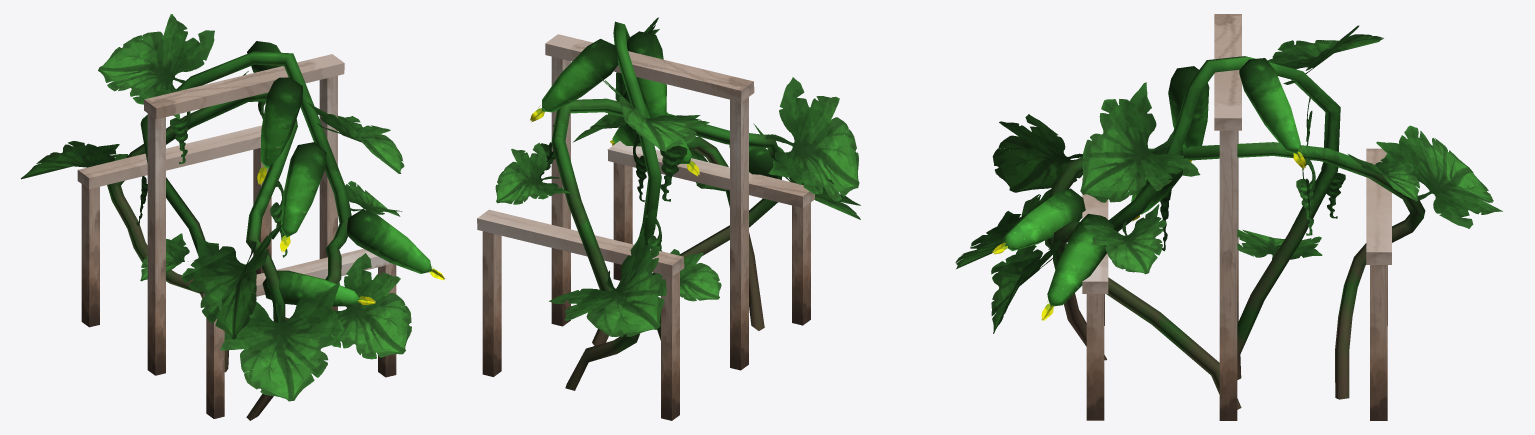
Rendered from cucumber_stage3.FBX.
3 renders of one model, left to right at view 1: azimuth 30°, elevation 25°; view 2: azimuth 150°, elevation 25°; view 3: azimuth 270°, elevation 25°, orthographic. The views are drawn at different scales.
Visible parts, largest first — view 1: cucumber_stage3; view 2: cucumber_stage3; view 3: cucumber_stage3.
Part boxes in pixels (x1,y1,x2,y2): cucumber_stage3: (21, 14, 444, 420); cucumber_stage3: (477, 17, 860, 420); cucumber_stage3: (955, 14, 1502, 420).
Size of the model in its own units: 3.4 by 3.84 by 5.85.
1 material, 1 textured.
